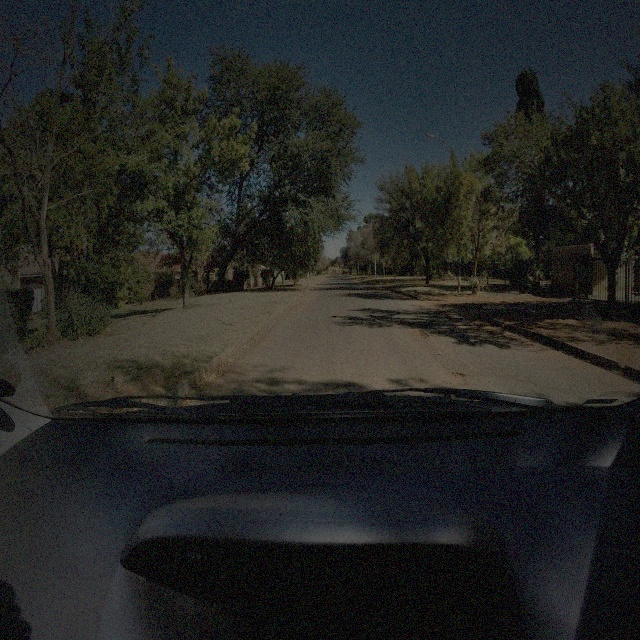pothole: (448, 368, 466, 381), (414, 330, 431, 342)
